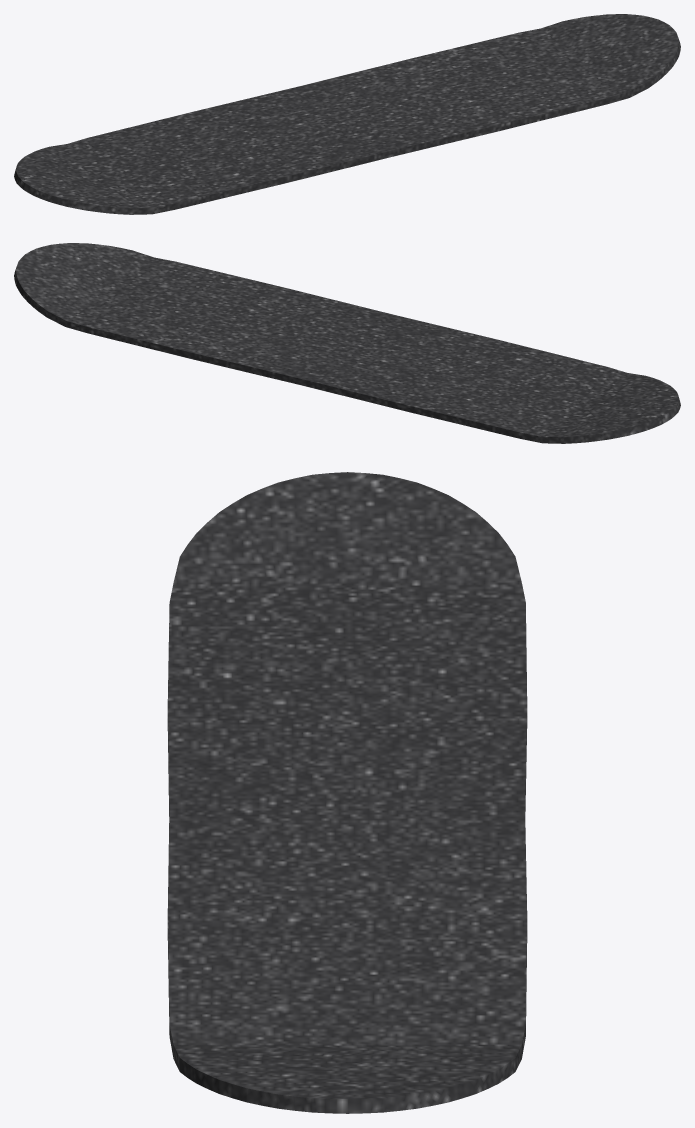
The model's file is hoverboard_base.obj.
3 renders of one model, top to bottom at view 1: azimuth 30°, elevation 25°; view 2: azimuth 150°, elevation 25°; view 3: azimuth 270°, elevation 25°, orthographic. The views are drawn at different scales.
Visible parts, largest first — view 1: Circle; view 2: Circle; view 3: Circle.
Boxes of the visible parts, x1=… form: Circle: x1=14, y1=14, x2=680, y2=214; Circle: x1=14, y1=243, x2=680, y2=443; Circle: x1=167, y1=472, x2=527, y2=1113.
Bounding box in the file's own units: 5.66 × 0.1711 × 1.36.
1 material, 1 textured.
